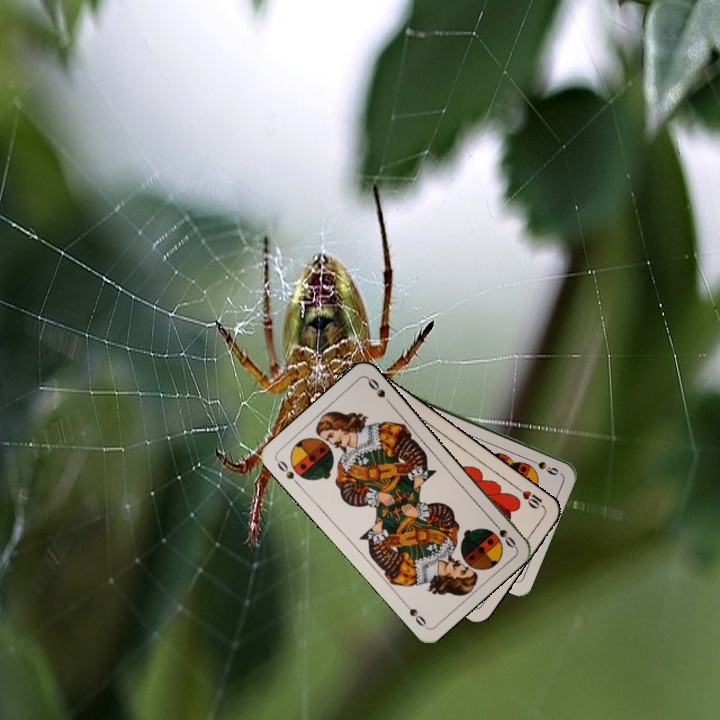H10: (512, 483, 548, 512)
S9: (523, 454, 561, 477)
SO: (272, 456, 303, 489), (488, 516, 518, 550)
